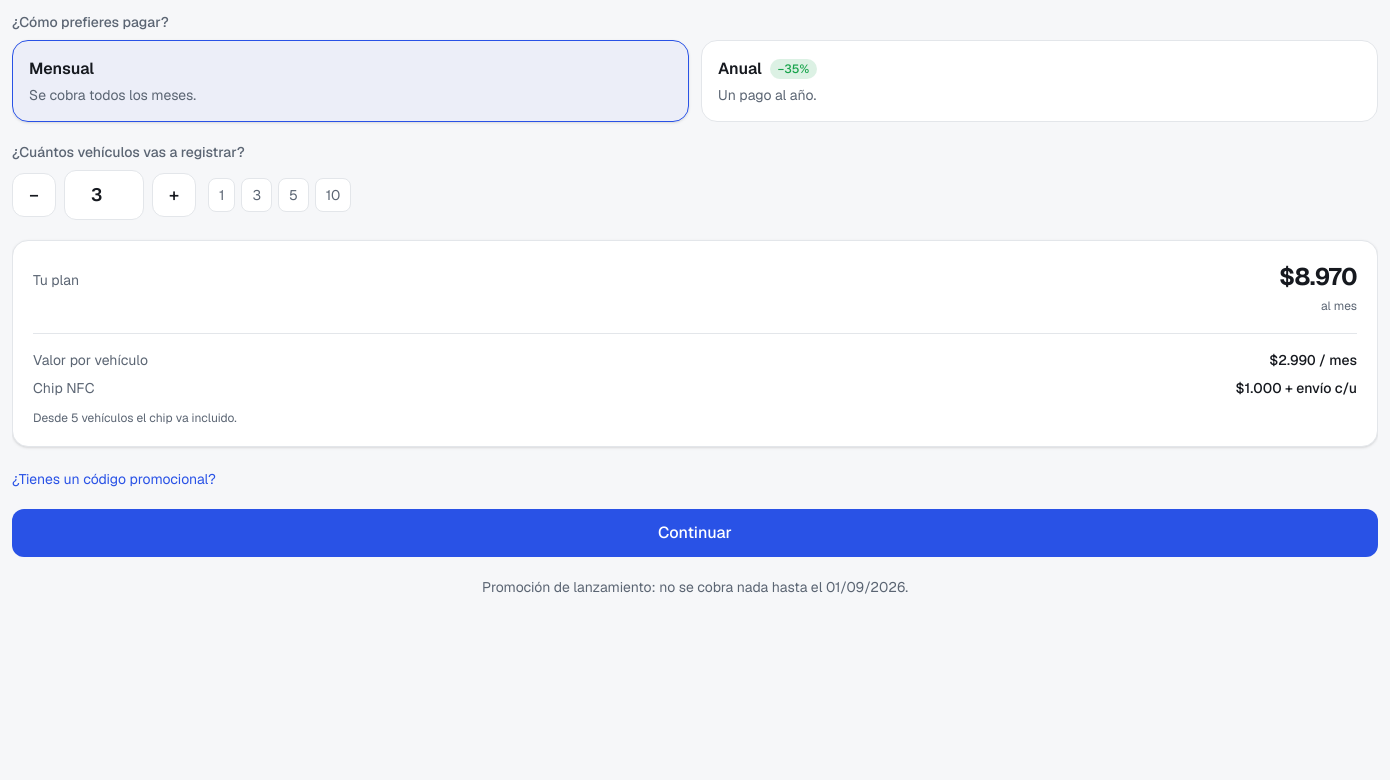
Test case: SelectorPlan › al tocar "Anual" el monto cambia al anual y aparece "Ahorras al año"
Click the button "Anual −35% Un pago al año.": (740, 68) [701, 40, 1378, 122]
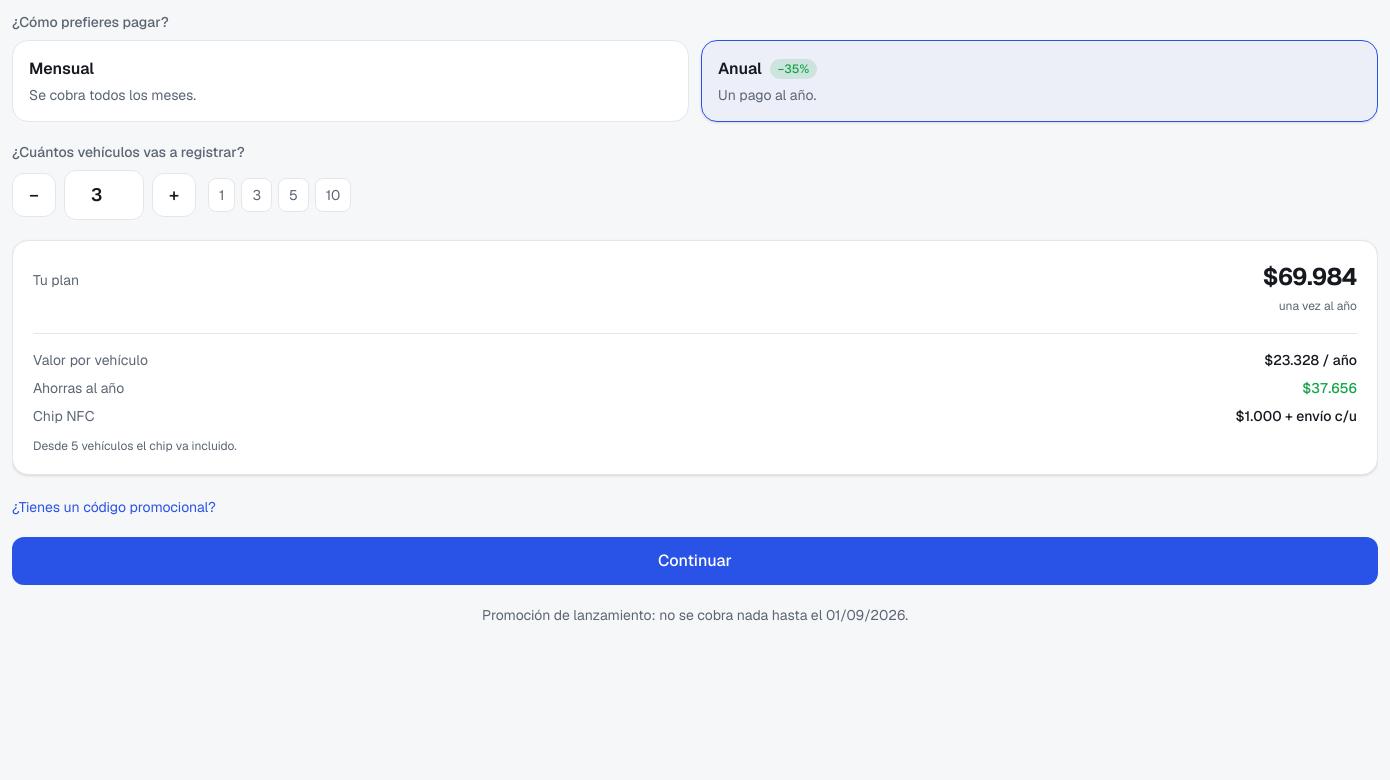
Expected: the text "$69.984" is shown, [1262, 261, 1357, 293]
Expected: the text "Ahorras al año" is shown, [33, 378, 124, 398]
